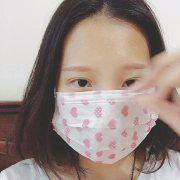OK: (51, 56, 155, 160)
